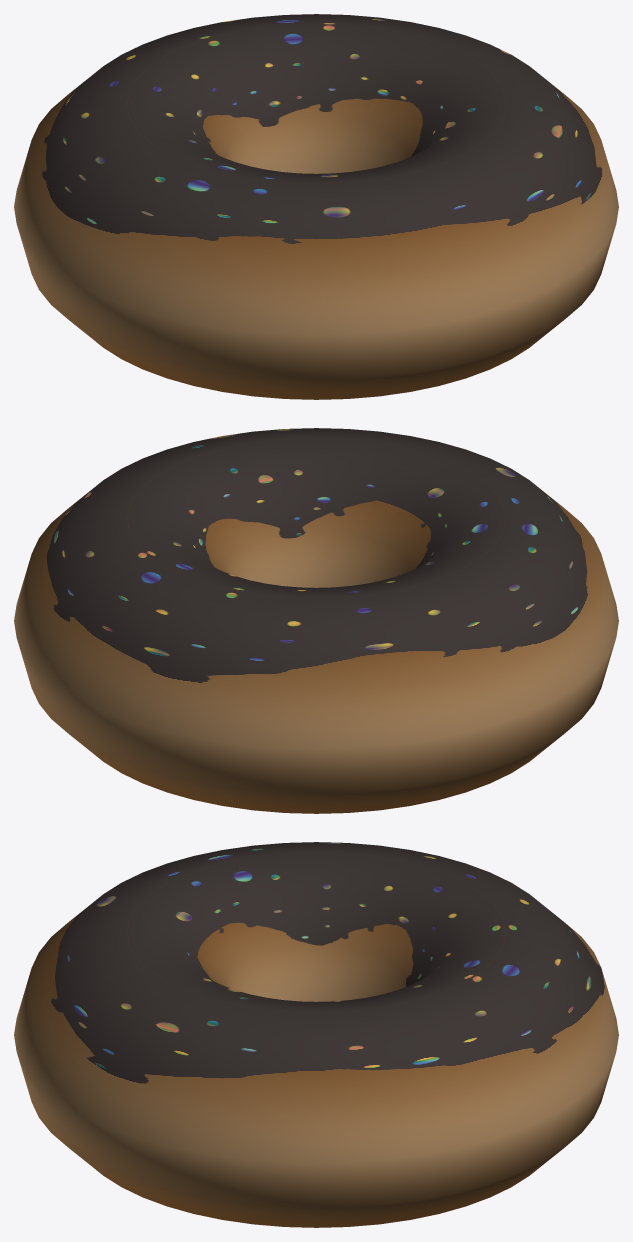
The model's file is donut.fbx.
3 views of the same model, one above another, from view 1: azimuth 30°, elevation 25°; view 2: azimuth 150°, elevation 25°; view 3: azimuth 270°, elevation 25° (orthographic).
Visible parts, largest first — view 1: Torus; view 2: Torus; view 3: Torus.
Boxes of the visible parts, x1,y1,x2,y2 form: Torus: (14,14,618,399); Torus: (14,428,618,813); Torus: (14,842,618,1227).
Bounding box in the file's own units: 320 × 120 × 320.
1 material, 1 textured.
